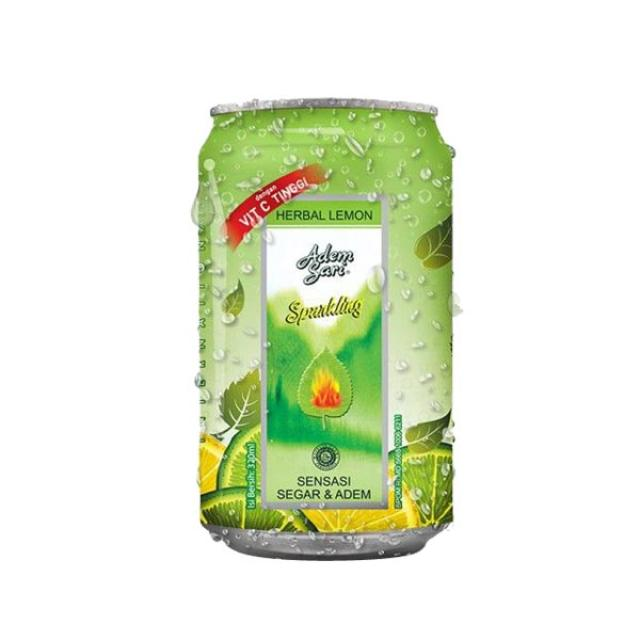ademsarikaleng: (191, 96, 456, 561)
